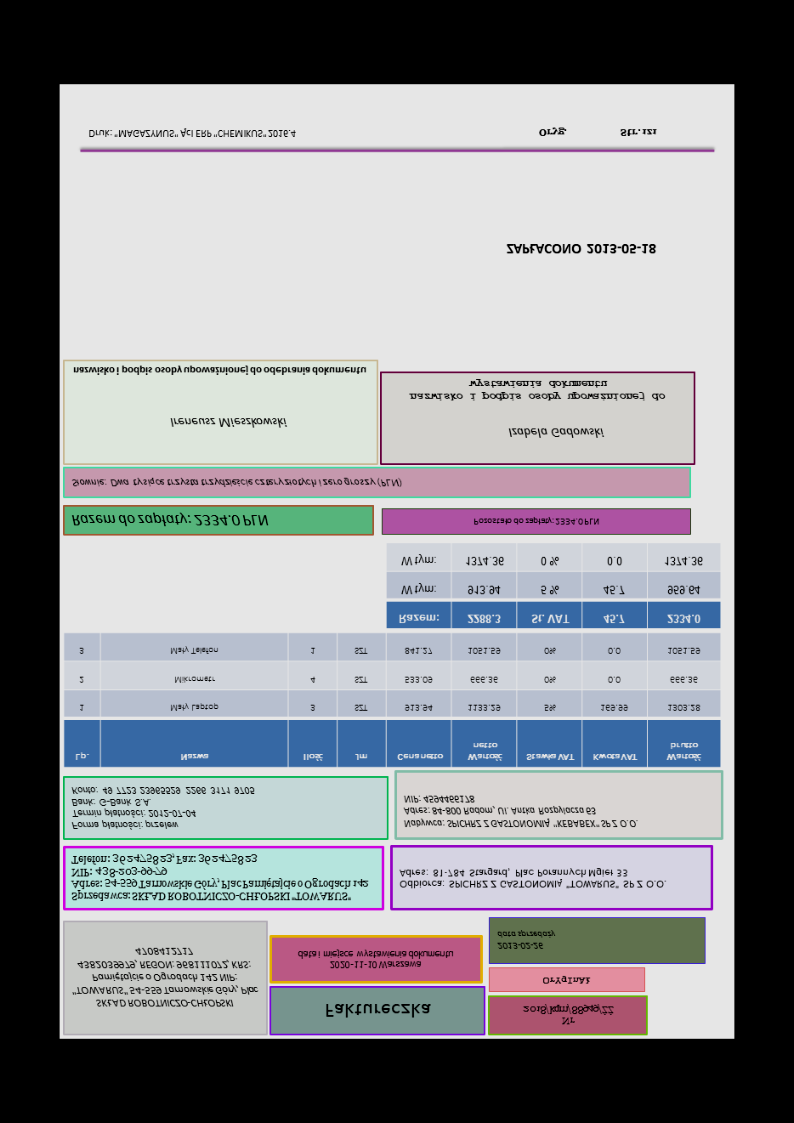Table: (62, 632, 723, 768), (384, 542, 723, 630)
TextBox: (69, 853, 372, 904), (70, 943, 263, 1011), (401, 792, 642, 831), (69, 784, 258, 833), (395, 865, 669, 893), (406, 377, 668, 405), (71, 475, 403, 491), (71, 363, 368, 380), (69, 510, 270, 531), (87, 124, 297, 142), (295, 948, 456, 971), (502, 241, 660, 258), (520, 1001, 615, 1029), (167, 413, 288, 433), (323, 1001, 432, 1020), (506, 423, 607, 443), (470, 516, 604, 530), (536, 125, 660, 140), (495, 926, 558, 952), (540, 972, 592, 988)
